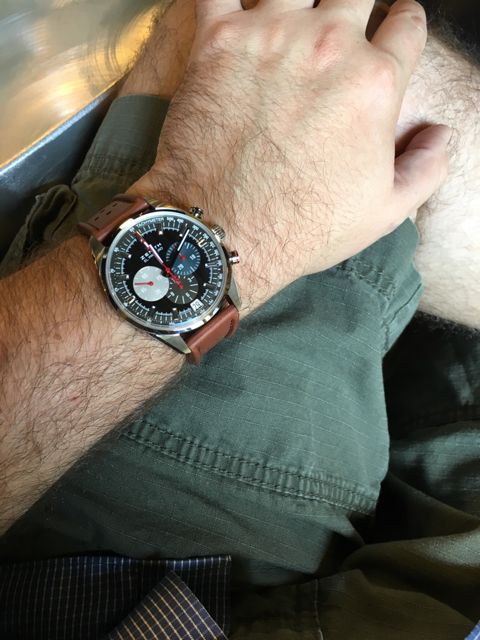clock: (106, 210, 229, 330)
